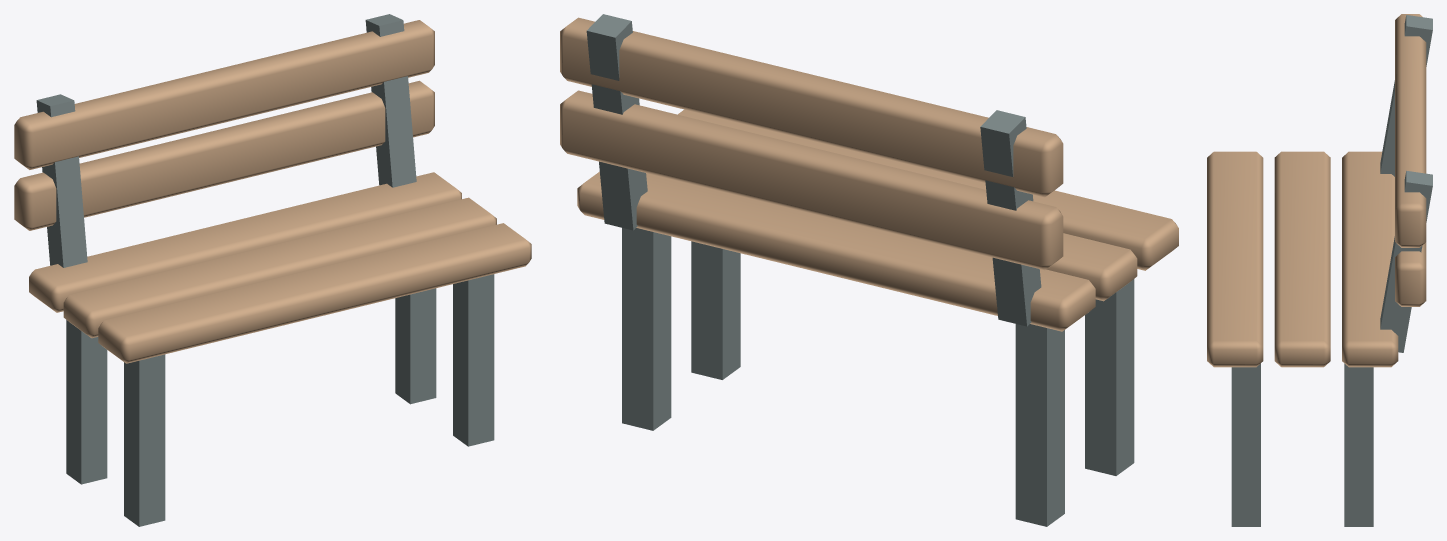
File: garden-bench.glb
3 renders of one model, left to right at view 1: azimuth 30°, elevation 25°; view 2: azimuth 150°, elevation 25°; view 3: azimuth 270°, elevation 25°, orthographic. The views are drawn at different scales.
Parts seen in each view (by area): view 1: Back slat.001, Seat slat, Back slat, Seat slat.001, Seat slat.002, Bench leg, Bench leg.002, Bench leg.001, Bench leg.003, Back support.001, Back support; view 2: Back slat, Back slat.001, Seat slat.002, Bench leg.001, Bench leg.003, Bench leg, Seat slat, Bench leg.002, Back support, Back support.001, Seat slat.001; view 3: Seat slat, Seat slat.001, Seat slat.002, Back slat.001, Bench leg.002, Bench leg.003, Back support.001, Back slat, Back support.
Part boxes in pixels (x1,y1,x2,y2): Back slat.001: (14, 20, 434, 169); Seat slat: (98, 223, 531, 363); Back slat: (14, 80, 434, 230); Seat slat.001: (63, 197, 496, 338); Seat slat.002: (29, 172, 461, 312); Bench leg: (124, 354, 165, 526); Bench leg.002: (453, 274, 494, 446); Bench leg.001: (66, 320, 107, 484); Bench leg.003: (395, 288, 436, 404); Back support.001: (365, 14, 416, 187); Back support: (36, 94, 87, 267); Back slat: (560, 90, 1063, 270); Back slat.001: (560, 17, 1063, 197); Seat slat.002: (577, 172, 1095, 331); Bench leg.001: (1015, 324, 1064, 526); Bench leg.003: (622, 228, 671, 430); Bench leg: (1085, 279, 1134, 475); Seat slat: (678, 109, 1178, 270); Bench leg.002: (691, 241, 740, 379); Back support: (980, 110, 1041, 326); Back support.001: (586, 14, 647, 230); Seat slat.001: (1046, 233, 1137, 301); Seat slat: (1207, 151, 1263, 367); Seat slat.001: (1274, 151, 1330, 367); Seat slat.002: (1342, 151, 1398, 367); Back slat.001: (1395, 14, 1426, 247); Bench leg.002: (1231, 363, 1260, 526); Bench leg.003: (1344, 363, 1373, 526); Back support.001: (1380, 170, 1432, 352); Back slat: (1395, 242, 1426, 306); Back support: (1380, 15, 1432, 176).
Size of the model in its own units: 2.05 by 1.69 by 1.
